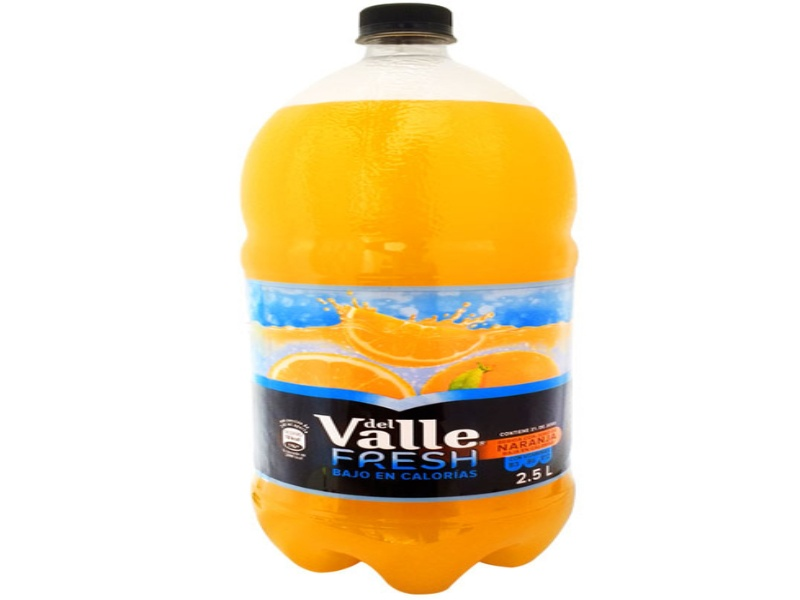Jugo de naranja: (242, 4, 575, 595)
